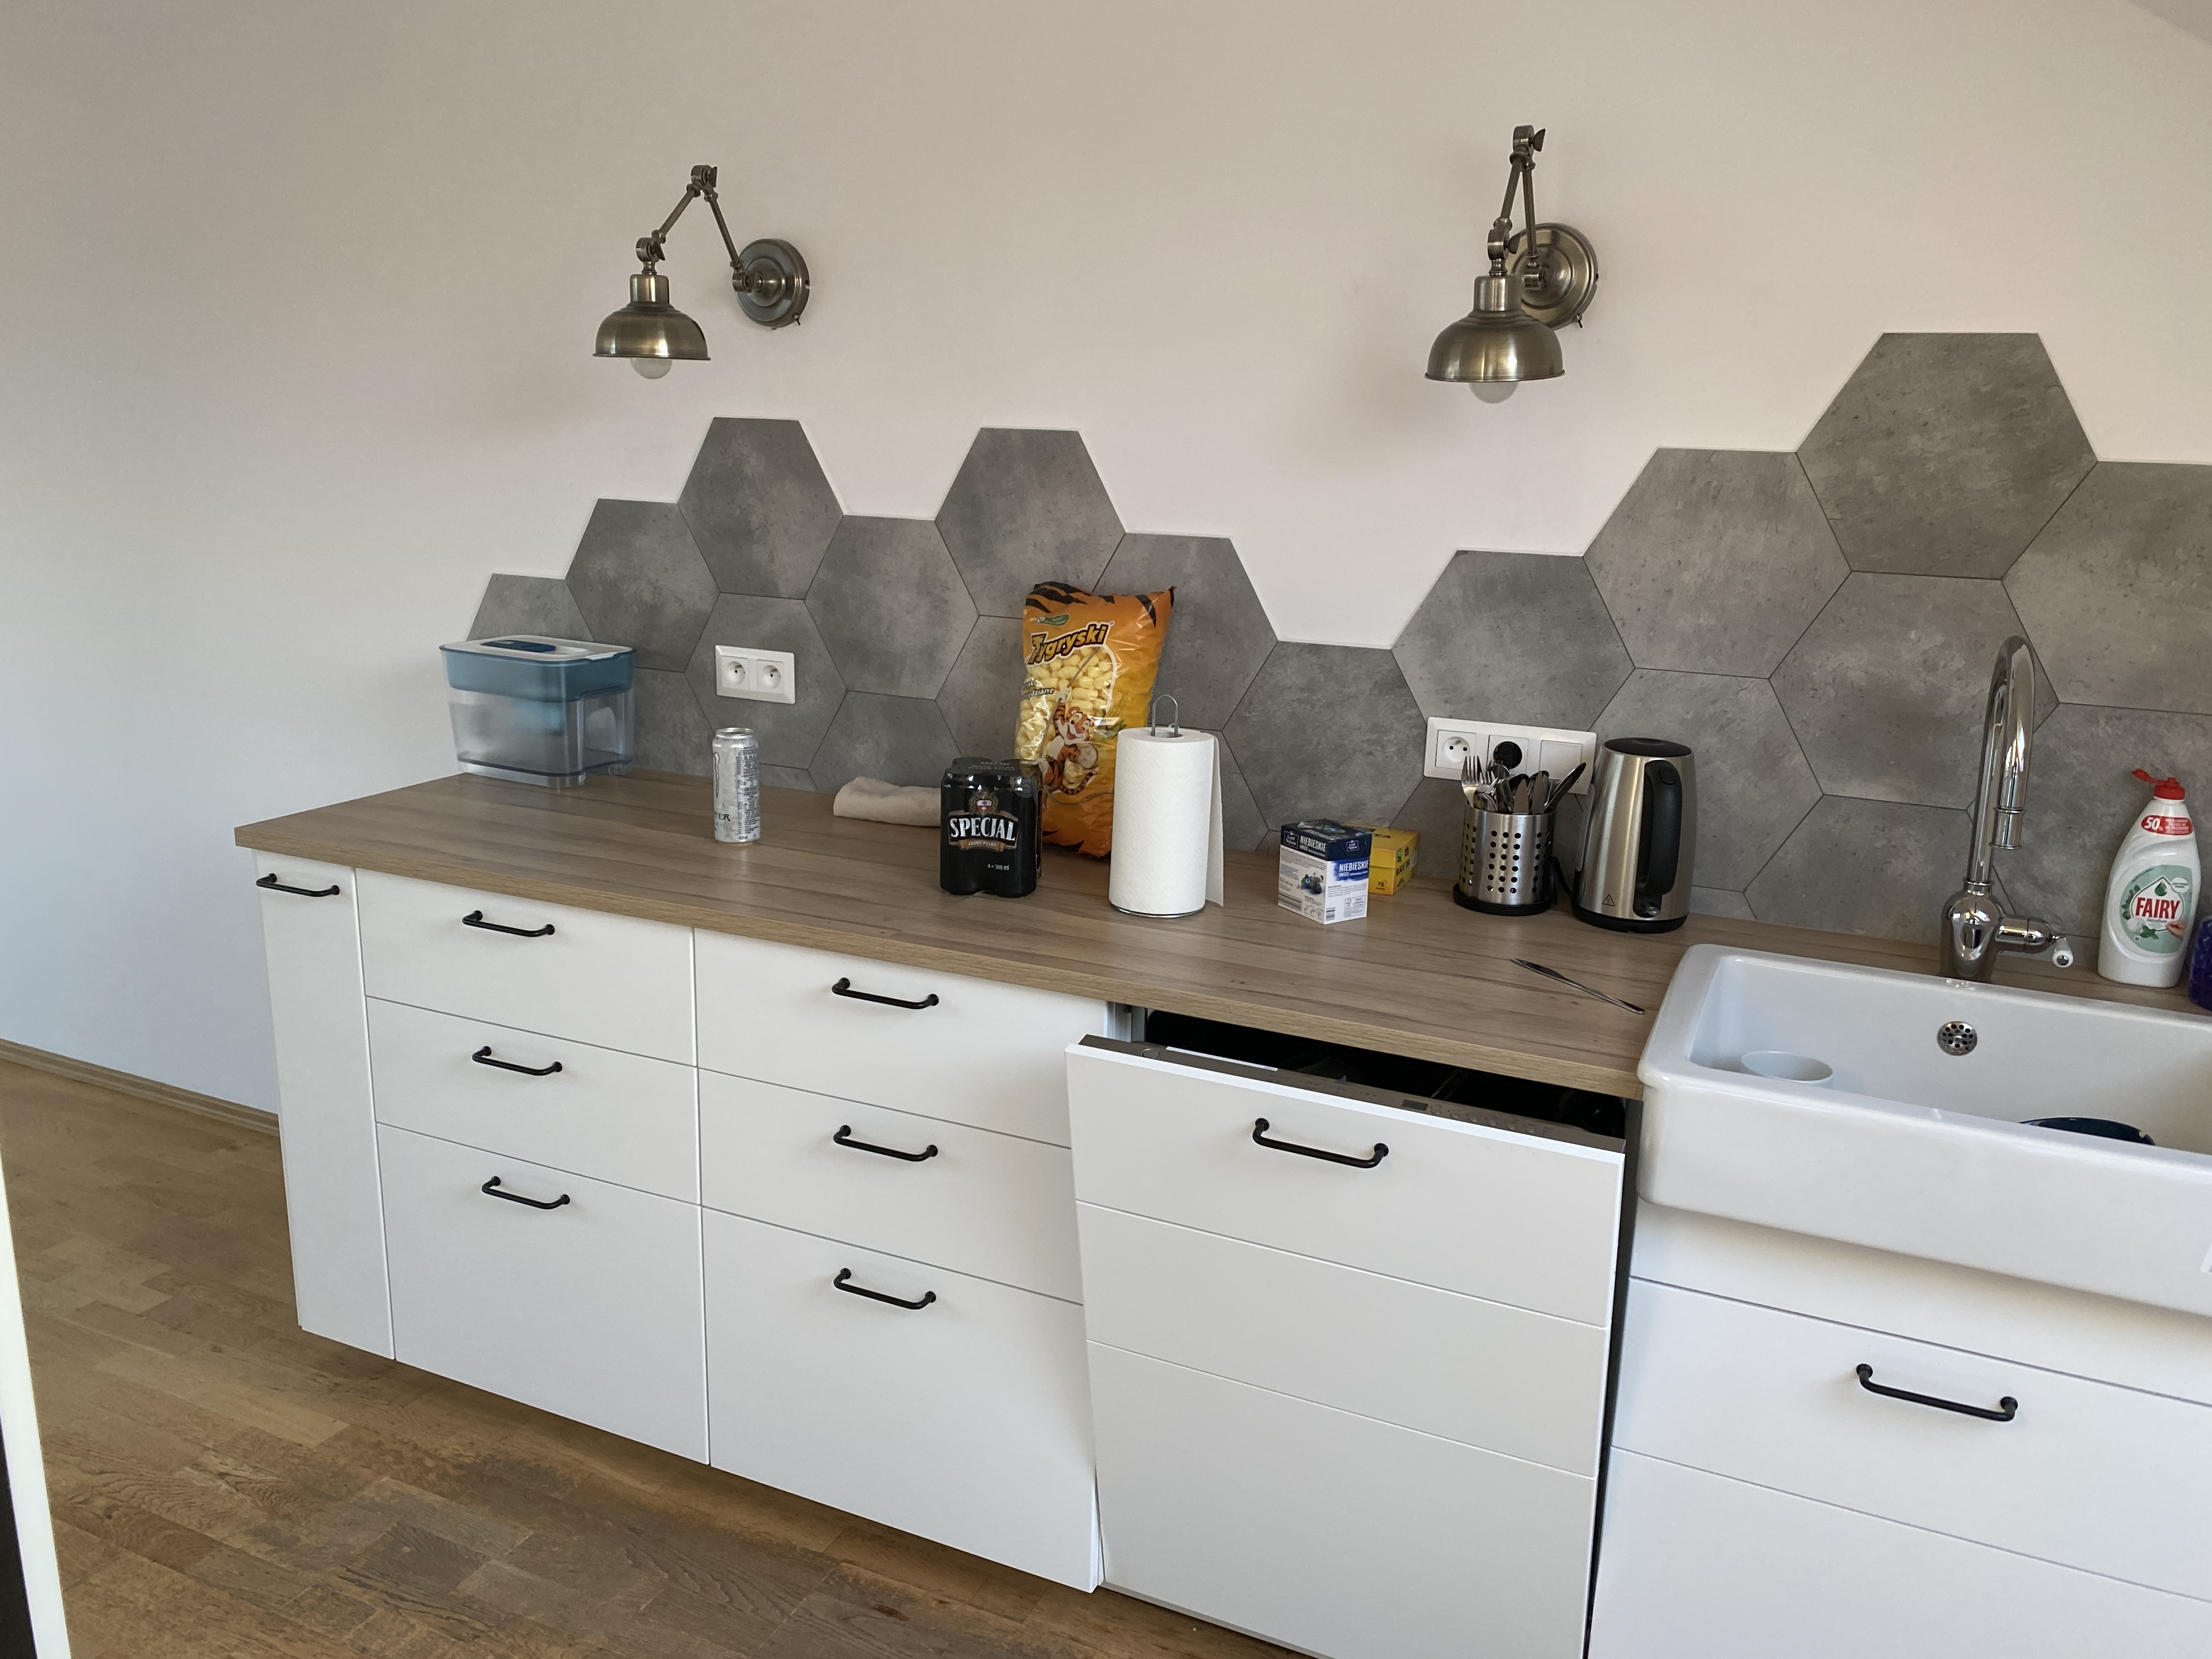specjal: (937, 756, 1045, 903)
